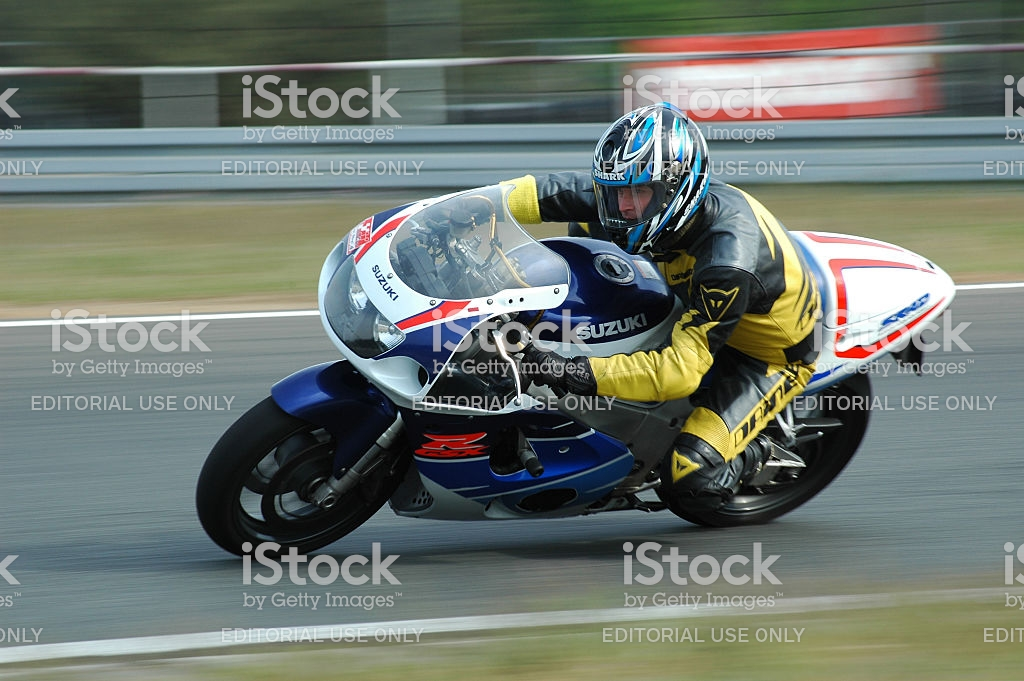helmet: (590, 106, 710, 251)
